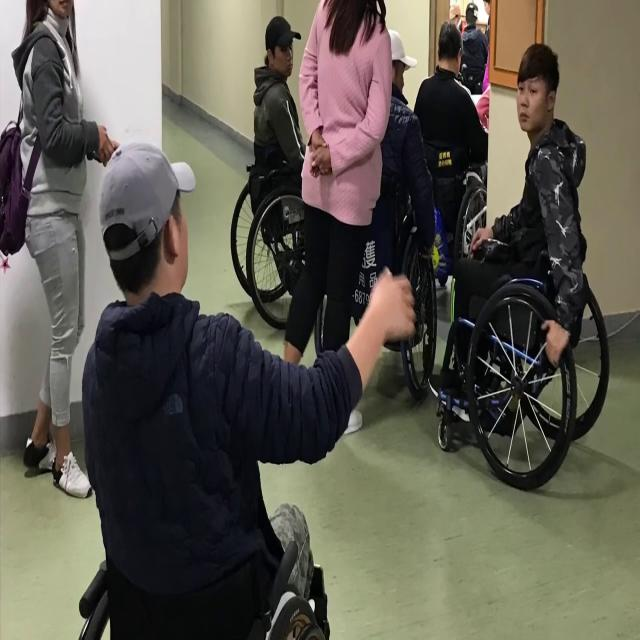wheelchairs: (427, 214, 611, 497), (311, 170, 440, 414), (221, 135, 328, 342)
